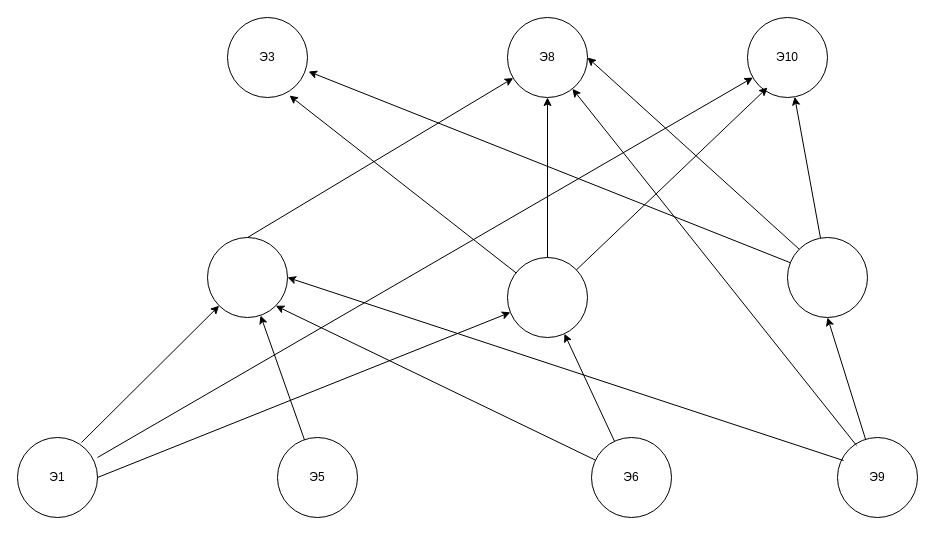
Image size: 935x535. Some labels were removed from this diagram. The shapes that lost their labels are listed below. From the top down, each one's centre as x and y in pixels, then its label:
At (247,277): "Э4".
At (547,297): "Э2".
At (827,277): "Э7".
